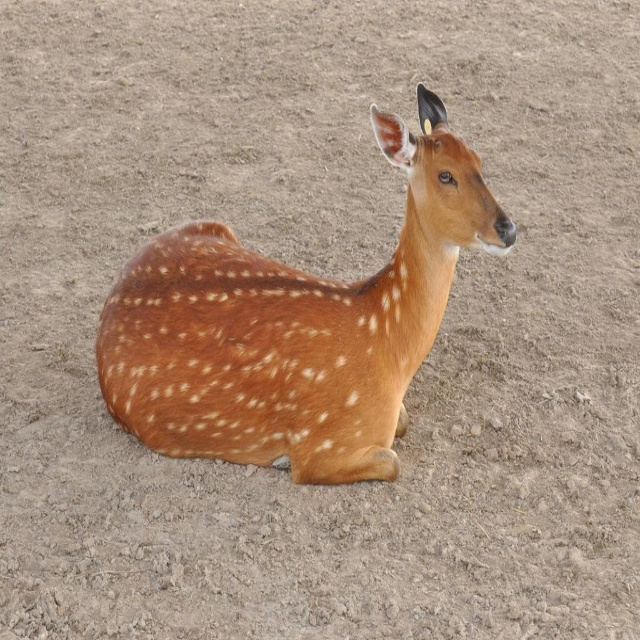Deer: (99, 87, 518, 481)
